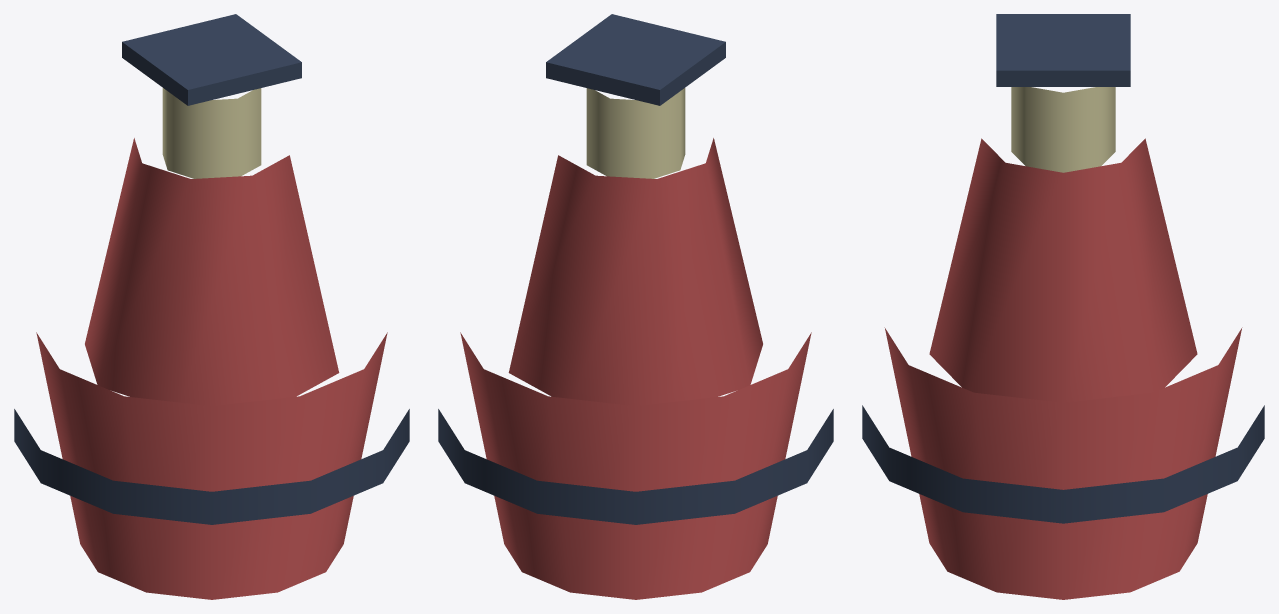
Rendered from channel-buoy.glb.
The picture shows the model from 3 angles, left to right: view 1: azimuth 30°, elevation 25°; view 2: azimuth 150°, elevation 25°; view 3: azimuth 270°, elevation 25°; orthographic projection.
Visible parts, largest first — view 1: Root; view 2: Root; view 3: Root.
Boxes of the visible parts, <box> form: Root: <box>14,14,409,599</box>; Root: <box>438,14,833,599</box>; Root: <box>862,14,1264,599</box>.
Size of the model in its own units: 2.7 by 3.71 by 2.7.
